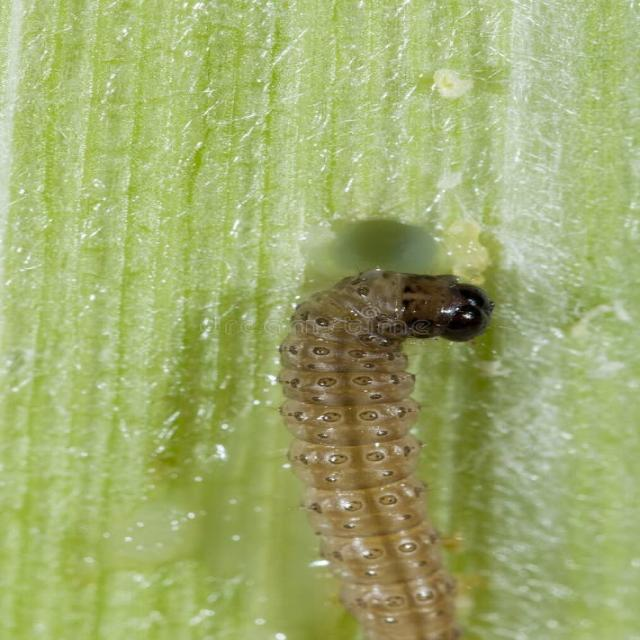cornborer-Larva-: (249, 258, 528, 633)
